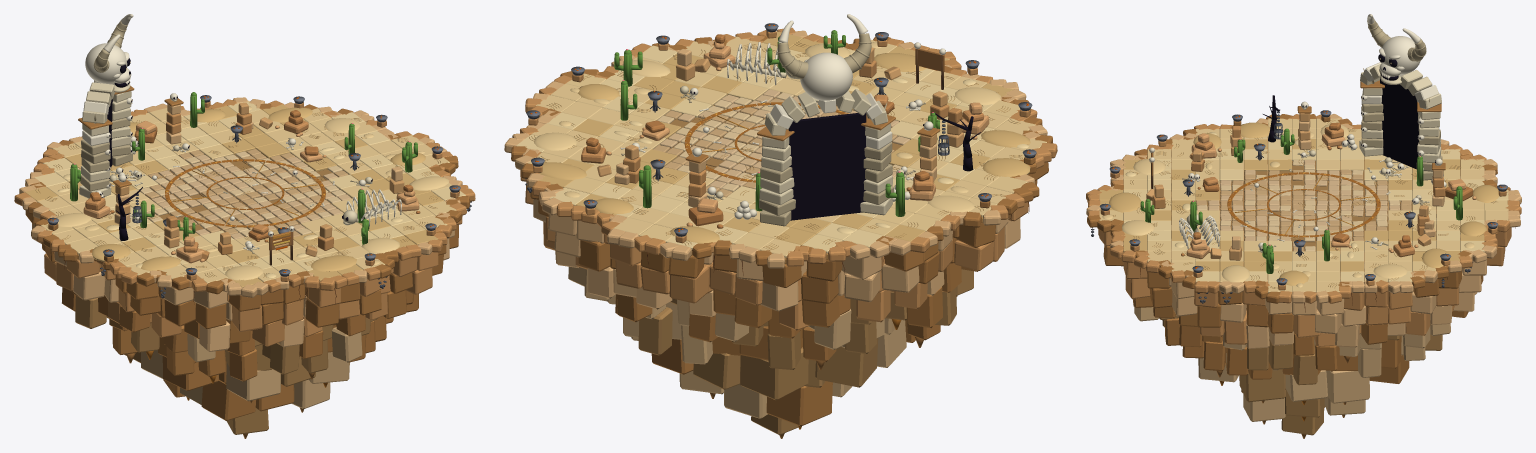
Rendered from boss-ile-desert.glb.
The picture shows the model from 3 angles, left to right: view 1: azimuth 30°, elevation 25°; view 2: azimuth 150°, elevation 25°; view 3: azimuth 270°, elevation 25°; orthographic projection. The views are drawn at different scales.
Parts seen in each view (by area): view 1: pierre_fond.079, pierre_fond.083, crane.008, pierre_fond.148, pierre_fond.124, pierre_fond.087, pierre_fond.044, pierre_fond.109, pierre_fond.004, pierre_fond.028, pierre_fond.055, pierre.005 (+34 smaller); view 2: passage, pierre_fond.064, pierre_fond.069, crane.008, pierre_fond.036, pierre_fond.129, pierre_fond.098, pierre_fond.052, pierre_fond.103, pierre.093, pierre_fond.019, pierre.001 (+46 smaller); view 3: passage, pierre_fond.173, pierre_fond.181, pierre_fond.177, crane.008, pierre_fond.148, pierre_fond.203, pierre_fond.109, pierre_fond.143, pierre_fond.191, pierre_fond.184, pierre_fond.213 (+26 smaller).
Boxes of the visible parts, box(x1,y1,x2,y2) form: pierre_fond.079: box(201, 380, 256, 420); pierre_fond.083: box(226, 362, 280, 401); crane.008: box(85, 43, 127, 83); pierre_fond.148: box(292, 379, 330, 409); pierre_fond.124: box(331, 327, 362, 362); pierre_fond.087: box(270, 342, 299, 374); pierre_fond.044: box(162, 356, 219, 390); pierre_fond.109: box(226, 408, 268, 434); pierre_fond.004: box(75, 295, 106, 328); pierre_fond.028: box(199, 321, 230, 351); pierre_fond.055: box(229, 349, 257, 381); pierre.005: box(73, 272, 105, 300); passage: box(788, 113, 866, 220); pierre_fond.064: box(740, 347, 808, 400); pierre_fond.069: box(766, 381, 832, 426); crane.008: box(800, 52, 852, 100); pierre_fond.036: box(815, 338, 878, 387); pierre_fond.129: box(638, 307, 672, 355); pierre_fond.098: box(693, 353, 740, 389); pierre_fond.052: box(767, 331, 800, 369); pierre_fond.103: box(724, 384, 767, 418); pierre.093: box(669, 265, 708, 303); pierre_fond.019: box(814, 309, 851, 349); pierre.001: box(954, 240, 994, 271); passage: box(1380, 77, 1418, 169); pierre_fond.173: box(1326, 370, 1369, 403); pierre_fond.181: box(1239, 369, 1285, 402); pierre_fond.177: box(1285, 370, 1327, 401); crane.008: box(1382, 36, 1420, 74); pierre_fond.148: box(1243, 394, 1285, 421); pierre_fond.203: box(1293, 347, 1317, 385); pierre_fond.109: box(1281, 409, 1324, 435); pierre_fond.143: box(1285, 389, 1325, 417); pierre_fond.191: box(1358, 348, 1381, 377); pierre_fond.184: box(1203, 341, 1226, 371); pierre_fond.213: box(1268, 339, 1293, 369).
Bounding box in the file's own units: 36.18 × 34.99 × 36.19.
